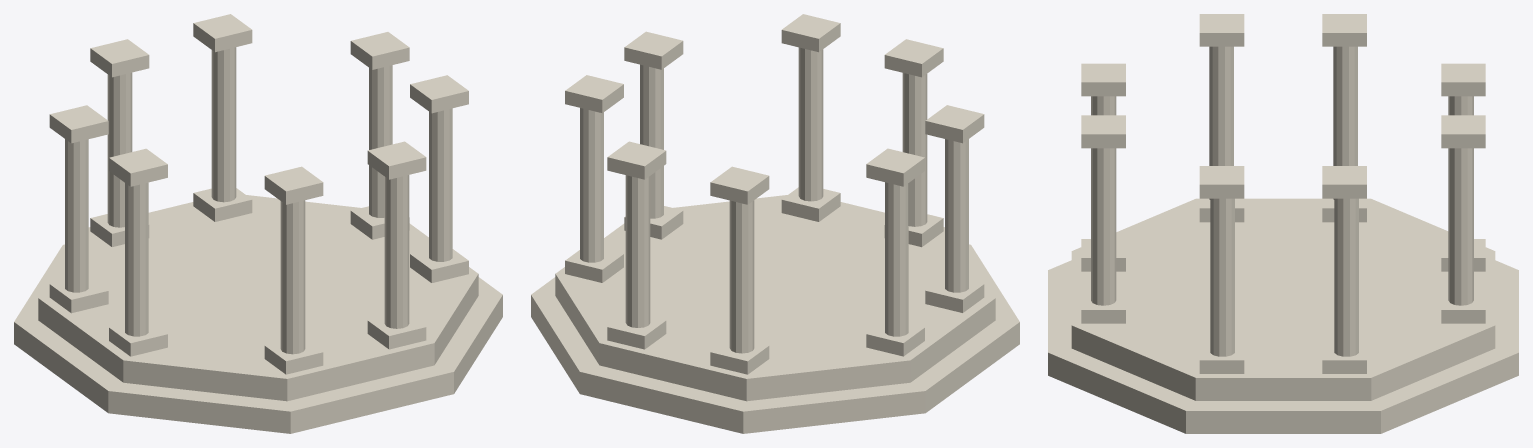
The model's file is bandstand1.fbx.
3 views of the same model, side by side, from view 1: azimuth 30°, elevation 25°; view 2: azimuth 150°, elevation 25°; view 3: azimuth 270°, elevation 25° (orthographic). The views are drawn at different scales.
Parts seen in each view (by area): view 1: group17; view 2: group17; view 3: group17.
Boxes of the visible parts, box(x1,y1,x2,y2) form: group17: box(14, 14, 502, 433); group17: box(531, 14, 1019, 433); group17: box(1048, 14, 1518, 433).
Size of the model in its own units: 18.48 by 10.2 by 18.48.
